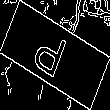P_SW: (34, 24, 76, 86)
